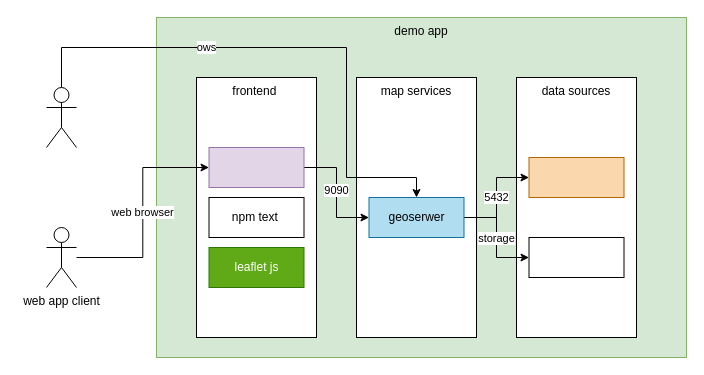
The diagram is 704 pixels wide and 375 high, and some of its shapes have lost their labels. Each missing label, with the centre of its shape:
gis system client: [61,117]
gpkg, fgf files: [576,257]
postgis: [576,177]
react app: [256,167]
